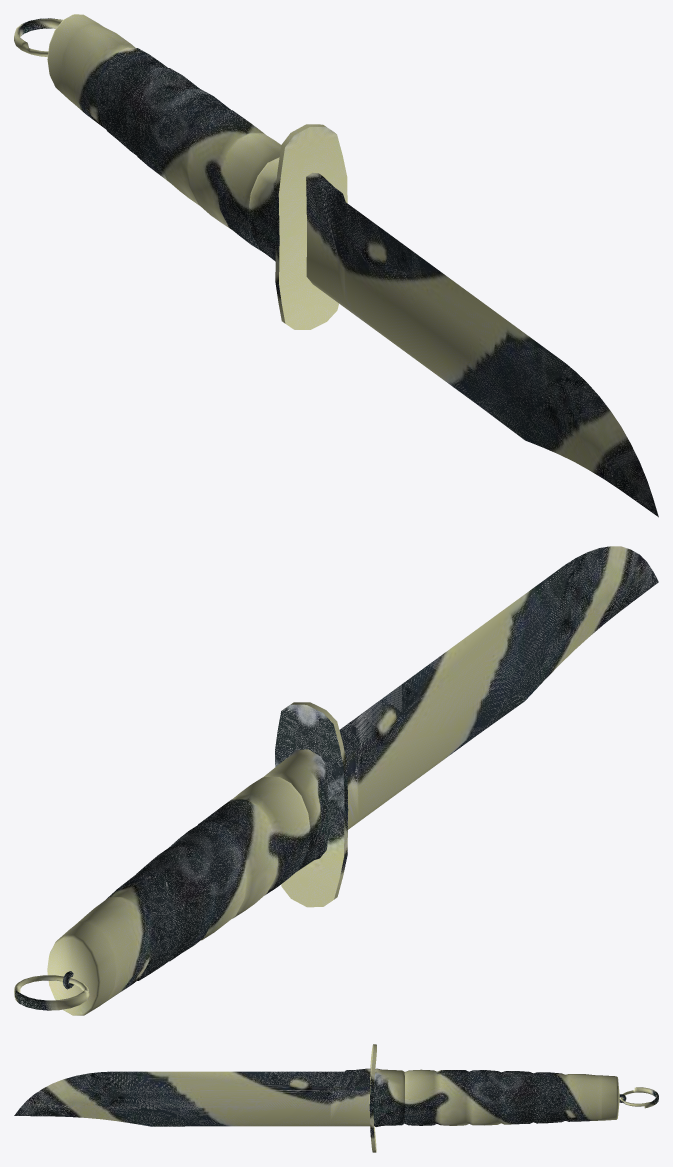
The model's file is model_align.obj.
3 renders of one model, top to bottom at view 1: azimuth 30°, elevation 25°; view 2: azimuth 150°, elevation 25°; view 3: azimuth 270°, elevation 25°, orthographic. The views are drawn at different scales.
Parts seen in each view (by area): view 1: mesh3_mesh3-geometry, mesh1_mesh1-geometry, mesh5_mesh5-geometry, mesh7_mesh7-geometry, mesh6_mesh6-geometry, mesh2_mesh2-geometry; view 2: mesh3_mesh3-geometry, mesh1_mesh1-geometry, mesh5_mesh5-geometry, mesh6_mesh6-geometry, mesh7_mesh7-geometry, mesh2_mesh2-geometry; view 3: mesh3_mesh3-geometry, mesh1_mesh1-geometry, mesh7_mesh7-geometry, mesh6_mesh6-geometry, mesh5_mesh5-geometry, mesh2_mesh2-geometry.
Boxes of the visible parts, bbox=[...] form: mesh3_mesh3-geometry: bbox=[306, 172, 658, 517]; mesh1_mesh1-geometry: bbox=[60, 23, 281, 252]; mesh5_mesh5-geometry: bbox=[275, 124, 347, 329]; mesh7_mesh7-geometry: bbox=[248, 157, 279, 261]; mesh6_mesh6-geometry: bbox=[47, 14, 98, 99]; mesh2_mesh2-geometry: bbox=[14, 18, 62, 56]; mesh3_mesh3-geometry: bbox=[339, 546, 658, 829]; mesh1_mesh1-geometry: bbox=[72, 777, 310, 1005]; mesh5_mesh5-geometry: bbox=[275, 702, 348, 907]; mesh6_mesh6-geometry: bbox=[47, 923, 116, 1015]; mesh7_mesh7-geometry: bbox=[264, 749, 328, 871]; mesh2_mesh2-geometry: bbox=[14, 975, 89, 1010]; mesh3_mesh3-geometry: bbox=[14, 1068, 370, 1126]; mesh1_mesh1-geometry: bbox=[404, 1069, 601, 1125]; mesh7_mesh7-geometry: bbox=[373, 1068, 404, 1126]; mesh6_mesh6-geometry: bbox=[601, 1075, 619, 1120]; mesh5_mesh5-geometry: bbox=[369, 1044, 376, 1152]; mesh2_mesh2-geometry: bbox=[620, 1087, 658, 1108].
Size of the model in its own units: 0.0146 by 0.0413 by 0.2313.
